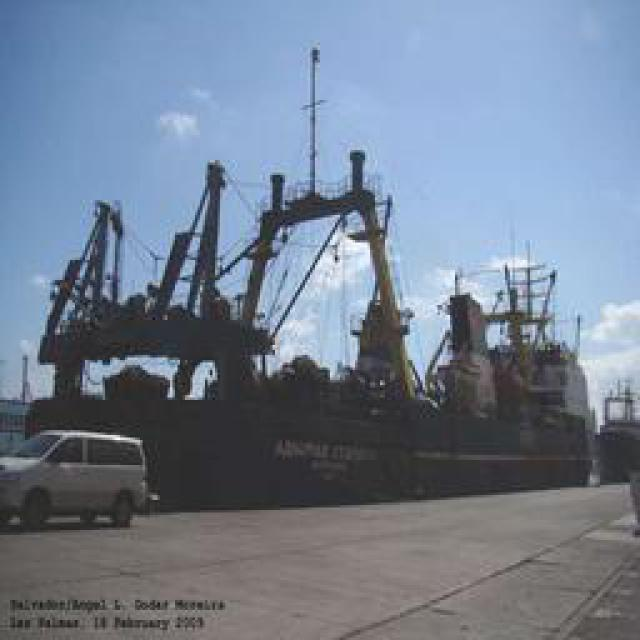Ship: (39, 143, 640, 512)
